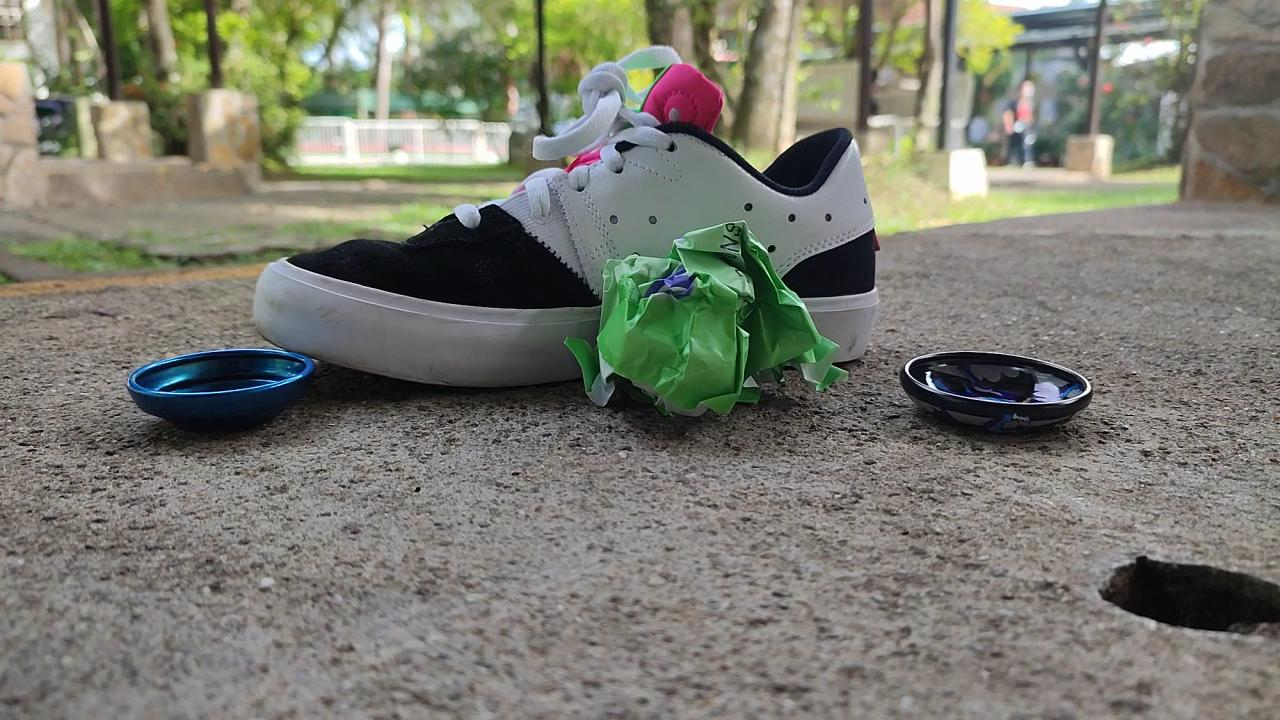Paper: (552, 210, 862, 431)
